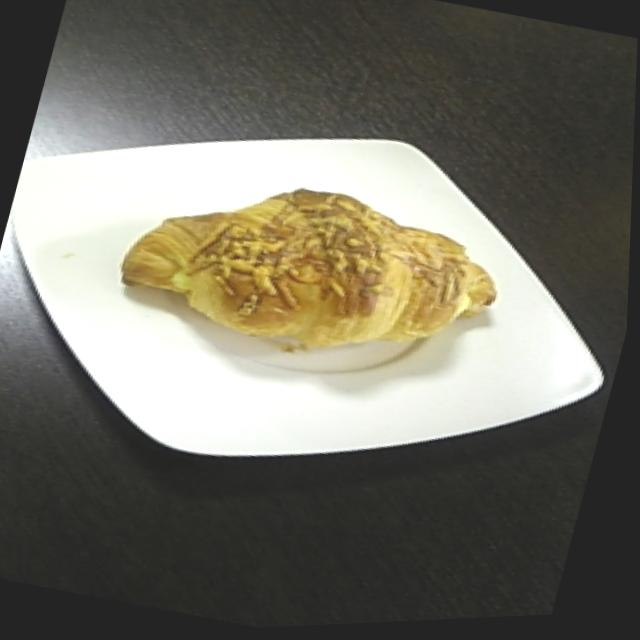三明治: (69, 107, 564, 441)
